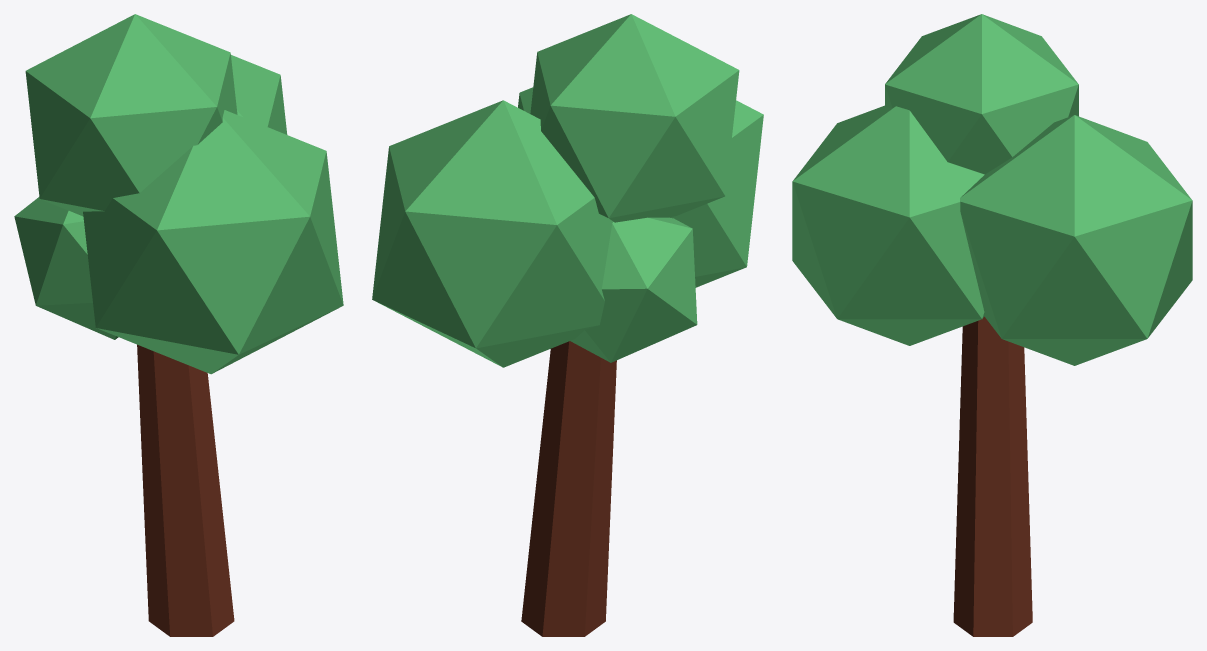
File: TreeBig.fbx
3 views of the same model, side by side, from view 1: azimuth 30°, elevation 25°; view 2: azimuth 150°, elevation 25°; view 3: azimuth 270°, elevation 25° (orthographic). The views are drawn at different scales.
Parts seen in each view (by area): view 1: TreeBig; view 2: TreeBig; view 3: TreeBig.
Boxes of the visible parts, x1,y1,x2,y2 form: TreeBig: [14, 14, 343, 636]; TreeBig: [372, 14, 763, 636]; TreeBig: [792, 14, 1192, 636].
Size of the model in its own units: 177 by 364 by 227.
